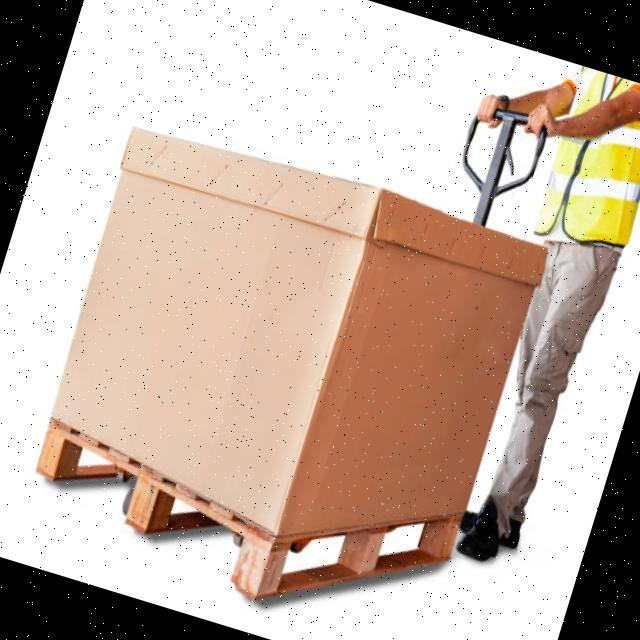Wooden-Pallets: (32, 423, 465, 603)
